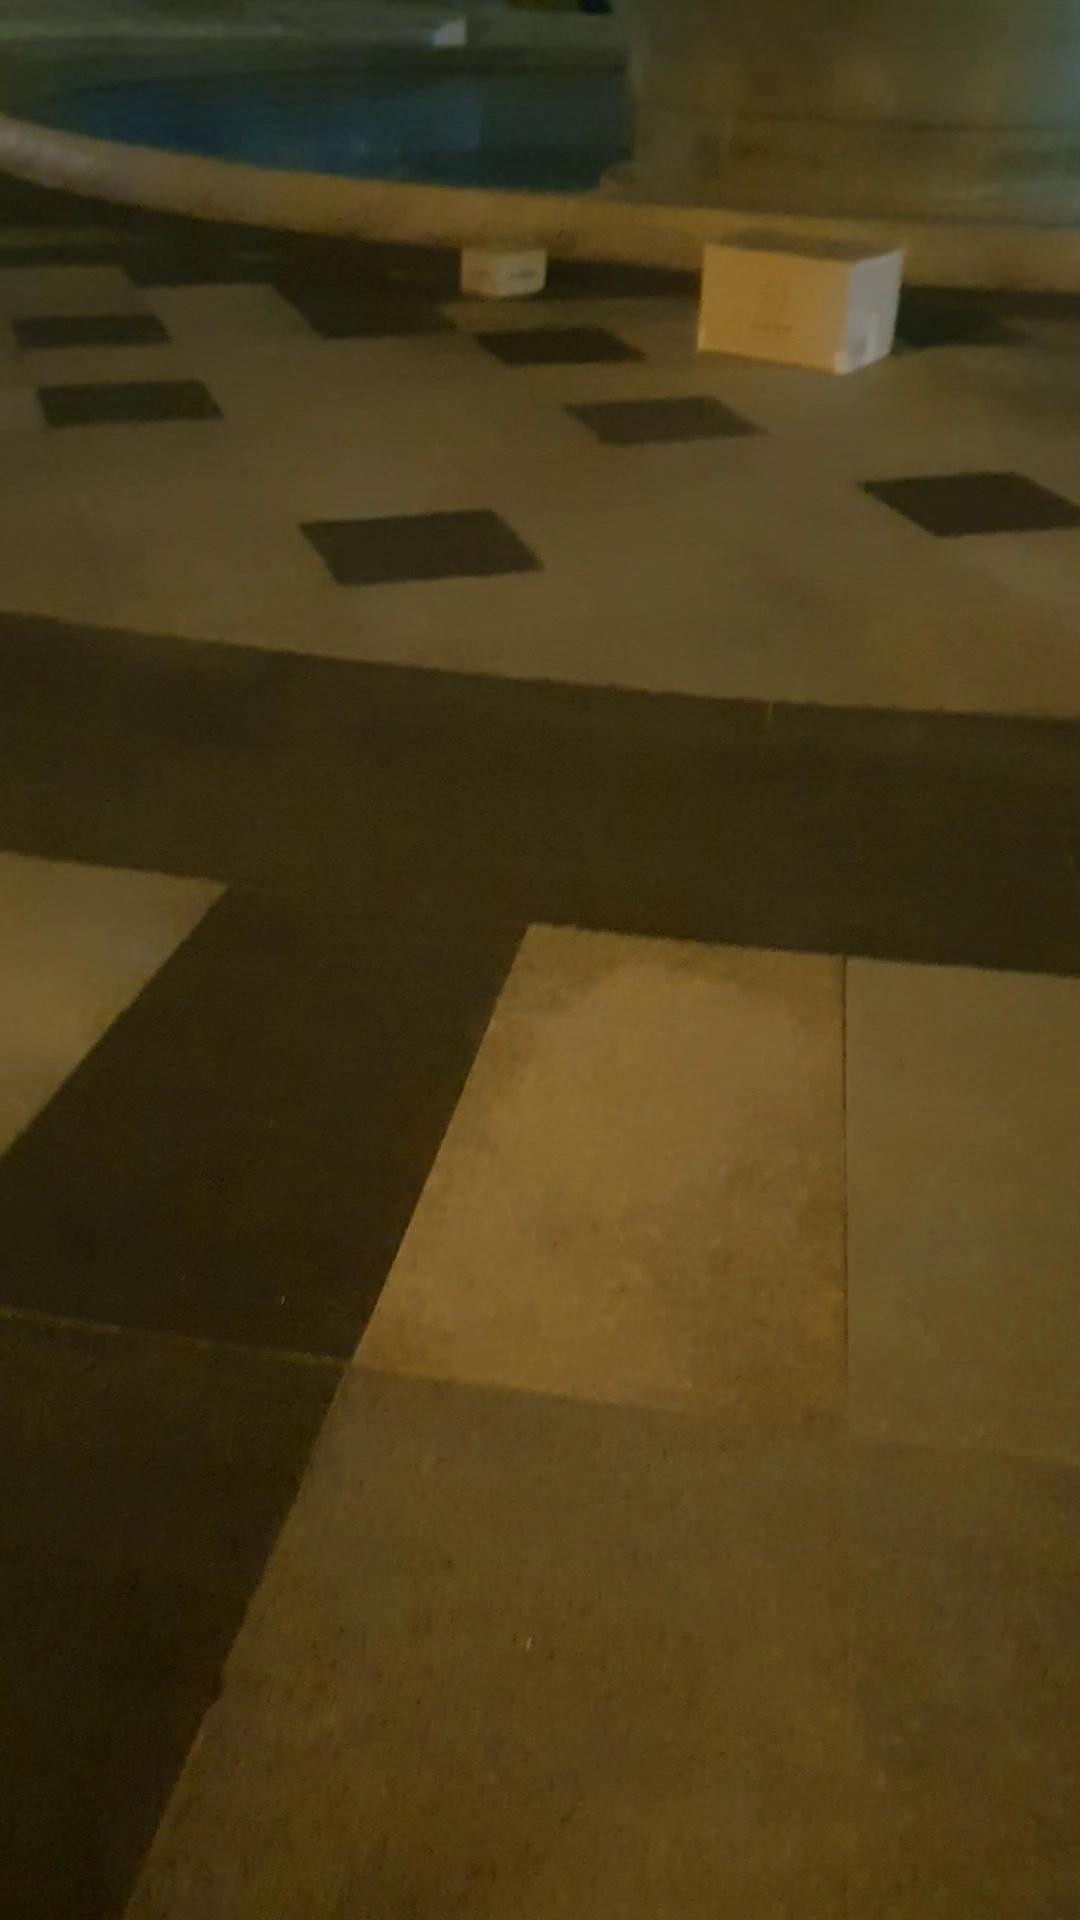Box: (680, 225, 905, 378), (443, 237, 562, 301)
